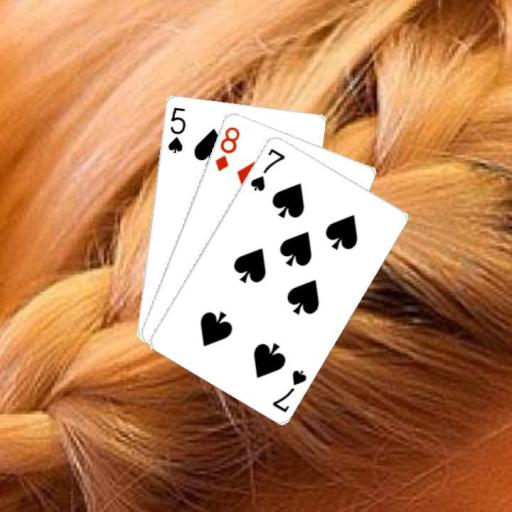5S: (164, 103, 187, 154)
7S: (247, 144, 287, 193), (269, 366, 309, 414)
8D: (211, 123, 242, 173)
